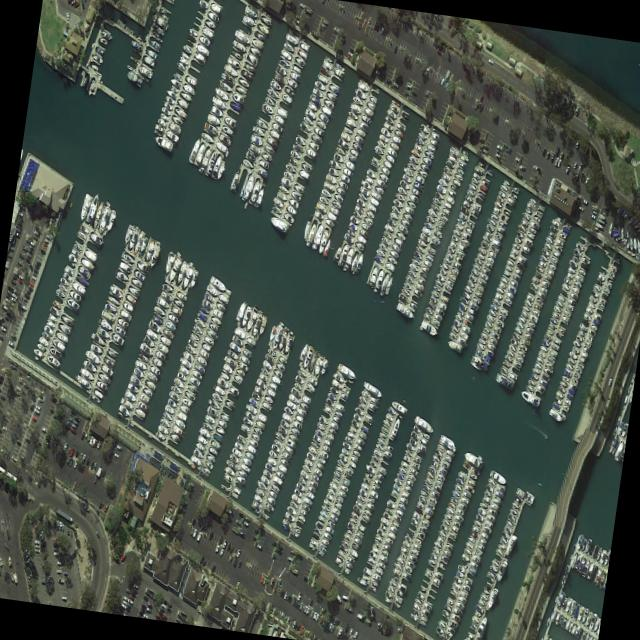large-vehicle: (56, 509, 73, 521), (4, 469, 17, 482), (0, 464, 6, 473), (59, 520, 62, 529), (61, 523, 64, 531), (67, 527, 69, 536), (56, 521, 58, 529)
ship: (240, 171, 255, 202), (85, 191, 99, 223), (518, 387, 539, 408), (414, 413, 434, 435), (96, 205, 111, 234), (463, 448, 483, 468), (167, 254, 181, 282), (78, 192, 91, 222), (91, 199, 104, 229), (268, 214, 288, 233), (153, 132, 172, 152), (494, 371, 514, 390), (311, 221, 324, 250), (148, 239, 161, 268), (271, 320, 284, 349), (396, 300, 414, 320), (316, 227, 329, 254), (188, 136, 201, 163), (438, 432, 456, 451), (204, 148, 217, 174), (199, 145, 212, 171), (245, 305, 258, 331), (209, 153, 222, 178), (388, 416, 401, 441), (420, 318, 437, 337), (305, 220, 317, 246), (248, 178, 260, 204), (125, 68, 142, 86), (372, 267, 384, 292), (132, 229, 144, 254), (193, 140, 205, 165), (251, 309, 262, 336), (390, 398, 407, 415), (301, 344, 313, 368), (378, 270, 389, 296), (181, 265, 193, 288), (337, 242, 348, 267), (233, 28, 250, 44), (469, 353, 484, 371), (105, 208, 116, 232), (343, 246, 354, 269), (353, 251, 364, 274), (127, 226, 138, 249), (229, 168, 240, 191), (235, 298, 246, 321), (122, 223, 133, 245), (253, 185, 264, 207), (613, 439, 624, 461), (240, 304, 251, 326), (70, 279, 85, 295), (45, 352, 60, 368), (144, 237, 154, 261), (176, 259, 186, 283), (85, 348, 100, 364), (90, 331, 105, 347), (164, 251, 174, 274), (137, 63, 152, 78), (76, 374, 91, 389), (231, 37, 246, 52), (223, 62, 238, 77), (88, 229, 102, 245), (548, 407, 562, 423), (446, 338, 462, 352), (368, 264, 378, 285), (349, 251, 359, 272), (154, 15, 168, 30), (164, 127, 178, 142), (80, 256, 94, 271), (65, 296, 79, 311), (51, 336, 65, 351), (215, 86, 229, 101), (211, 95, 226, 109), (257, 314, 267, 335), (277, 328, 287, 349), (147, 318, 161, 333), (138, 341, 152, 356), (80, 366, 94, 381), (188, 268, 198, 288), (195, 42, 209, 56), (57, 321, 71, 335), (284, 31, 298, 45), (251, 123, 265, 137), (249, 132, 263, 146), (244, 4, 258, 18), (200, 130, 214, 144), (206, 111, 220, 125), (203, 120, 217, 134), (173, 104, 186, 119), (83, 247, 96, 262), (109, 283, 122, 298), (100, 307, 113, 322), (215, 161, 225, 180), (298, 341, 308, 360), (167, 120, 181, 133), (77, 264, 90, 278), (68, 288, 81, 302), (255, 116, 268, 130), (266, 85, 279, 99), (241, 156, 254, 170), (256, 21, 269, 35), (214, 139, 227, 153), (217, 131, 230, 145), (227, 55, 240, 69), (220, 71, 234, 84), (118, 259, 131, 273), (210, 103, 223, 117), (118, 307, 131, 321), (99, 317, 112, 331), (96, 370, 110, 383), (99, 362, 112, 376), (384, 275, 393, 294), (588, 611, 597, 630), (283, 333, 292, 352), (298, 120, 311, 133), (206, 9, 219, 22), (200, 25, 213, 38), (75, 273, 88, 286), (59, 313, 72, 326), (260, 101, 273, 114), (134, 357, 147, 370), (155, 295, 168, 308), (96, 325, 109, 338), (83, 359, 96, 372), (223, 114, 235, 128), (218, 80, 232, 92), (129, 373, 141, 387), (322, 237, 331, 255), (332, 244, 341, 262), (302, 219, 310, 239), (337, 136, 349, 149), (354, 86, 366, 99), (272, 195, 284, 208), (209, 1, 221, 14), (182, 81, 194, 94), (273, 71, 285, 84), (248, 141, 260, 154), (242, 13, 254, 26), (230, 47, 242, 60), (259, 13, 271, 26), (233, 326, 245, 339), (231, 333, 243, 346), (228, 340, 240, 353), (216, 375, 228, 388), (195, 353, 207, 366), (208, 397, 220, 410), (206, 404, 218, 417), (145, 327, 157, 340), (111, 332, 123, 345), (205, 283, 217, 296), (139, 235, 148, 252), (593, 567, 602, 584), (580, 606, 589, 623), (569, 551, 578, 568), (581, 559, 590, 576), (585, 561, 594, 578), (575, 533, 584, 550), (315, 201, 327, 213), (351, 94, 363, 106), (277, 182, 289, 194), (304, 107, 316, 119), (313, 78, 325, 90), (282, 211, 294, 223), (176, 97, 188, 109), (179, 89, 191, 101), (55, 330, 67, 342), (48, 345, 60, 357), (269, 79, 281, 91), (282, 40, 294, 52), (270, 120, 282, 132), (248, 45, 260, 57), (231, 91, 243, 103), (122, 252, 134, 264), (598, 570, 606, 588), (223, 354, 235, 366), (180, 395, 192, 407), (190, 367, 202, 379), (204, 327, 216, 339), (198, 426, 210, 438), (268, 324, 276, 342), (153, 304, 165, 316), (142, 335, 154, 347), (121, 300, 133, 312), (116, 316, 128, 328), (107, 293, 119, 305), (90, 341, 102, 353), (113, 324, 125, 336), (102, 355, 114, 367), (132, 366, 144, 378), (349, 101, 360, 114), (402, 164, 413, 177), (360, 177, 371, 190), (198, 33, 209, 46), (169, 75, 180, 88), (280, 91, 291, 104), (246, 52, 257, 65), (224, 464, 235, 477), (217, 291, 228, 304), (160, 289, 171, 302), (87, 78, 95, 95), (564, 596, 572, 613), (598, 547, 606, 564), (572, 601, 580, 618), (576, 604, 584, 621), (584, 609, 592, 626), (574, 552, 582, 569), (325, 172, 336, 184), (330, 158, 341, 170), (280, 175, 291, 187), (284, 162, 296, 173), (294, 134, 305, 146), (306, 100, 317, 112), (316, 72, 327, 84), (285, 203, 296, 215), (392, 196, 403, 208), (396, 184, 407, 196), (358, 184, 369, 196), (379, 125, 390, 137), (149, 38, 160, 50), (143, 54, 154, 66), (170, 113, 182, 124), (185, 74, 196, 86), (327, 82, 339, 93), (264, 95, 275, 107), (275, 64, 287, 75), (280, 48, 291, 60), (293, 55, 305, 66), (288, 69, 299, 81), (304, 146, 315, 158), (325, 89, 336, 101), (320, 104, 331, 116), (310, 132, 321, 144), (308, 139, 319, 151), (300, 160, 311, 172), (297, 167, 308, 179), (275, 106, 286, 118), (240, 68, 251, 80), (237, 76, 249, 87), (265, 135, 276, 147), (255, 166, 267, 177), (435, 182, 446, 194), (255, 30, 266, 42), (228, 452, 239, 464), (350, 139, 361, 151), (357, 190, 368, 202), (174, 417, 185, 429), (175, 409, 186, 421), (178, 402, 189, 414), (183, 389, 195, 400), (193, 361, 204, 373), (211, 390, 222, 402), (192, 447, 203, 459), (156, 423, 168, 434), (124, 292, 135, 304), (127, 285, 139, 296), (129, 276, 141, 287), (135, 259, 146, 271), (419, 230, 429, 243), (231, 445, 241, 458), (620, 421, 628, 437), (556, 590, 564, 606), (602, 550, 610, 566), (592, 615, 600, 631), (578, 556, 586, 572), (583, 537, 591, 553), (323, 180, 334, 191), (347, 109, 358, 120), (388, 140, 399, 151), (357, 80, 368, 91), (282, 169, 293, 180), (289, 148, 300, 159), (302, 114, 313, 125), (311, 86, 322, 97), (319, 65, 330, 76), (386, 254, 397, 265), (397, 223, 408, 234), (92, 52, 103, 63), (193, 50, 204, 61), (322, 97, 333, 108), (268, 128, 279, 139), (251, 37, 262, 48), (243, 61, 254, 72), (221, 124, 232, 135), (437, 176, 448, 187), (397, 291, 408, 302), (130, 38, 141, 49), (246, 403, 257, 414), (226, 348, 237, 359), (222, 362, 233, 373), (214, 384, 225, 395), (214, 300, 225, 311), (171, 424, 182, 435), (210, 314, 221, 325), (239, 461, 250, 472), (204, 413, 215, 424), (159, 416, 170, 427), (133, 269, 144, 280), (151, 313, 162, 324), (95, 379, 106, 390), (138, 351, 149, 362), (313, 208, 323, 220), (333, 151, 343, 163), (335, 144, 345, 156), (340, 130, 350, 142), (345, 116, 355, 128), (386, 145, 396, 157), (291, 142, 303, 152), (342, 165, 352, 177), (357, 119, 367, 131), (388, 101, 398, 113), (386, 107, 396, 119), (343, 231, 353, 243), (373, 143, 383, 155), (384, 113, 394, 125), (395, 229, 405, 241), (38, 334, 48, 346), (273, 113, 283, 125), (313, 125, 323, 137), (290, 188, 300, 200), (258, 157, 268, 169), (416, 236, 426, 248), (421, 224, 431, 236), (427, 206, 437, 218), (255, 377, 265, 389), (264, 351, 274, 363), (568, 600, 576, 615), (591, 543, 599, 558), (116, 270, 128, 280), (169, 430, 179, 442), (228, 384, 238, 396), (209, 438, 219, 450), (197, 433, 207, 445), (190, 453, 200, 465), (106, 346, 116, 358), (103, 303, 116, 312), (595, 545, 602, 561), (318, 194, 328, 205), (320, 187, 331, 197), (343, 124, 353, 135), (384, 152, 394, 163), (375, 177, 385, 188), (356, 233, 366, 244), (354, 239, 364, 250), (326, 210, 336, 221), (328, 204, 338, 215), (288, 156, 299, 166), (309, 93, 320, 103), (276, 190, 287, 200), (331, 198, 341, 209), (337, 178, 347, 189), (339, 172, 349, 183), (344, 159, 354, 170), (355, 126, 365, 137), (363, 105, 373, 116), (395, 121, 405, 132), (380, 235, 390, 246), (386, 216, 396, 227), (390, 203, 400, 214), (399, 178, 409, 189), (401, 172, 411, 183), (408, 153, 418, 164), (410, 147, 420, 158), (373, 253, 383, 264), (384, 260, 394, 271), (349, 214, 359, 225), (355, 196, 365, 207), (366, 167, 376, 178), (378, 132, 388, 143), (399, 216, 409, 227), (406, 198, 416, 209), (412, 179, 422, 190), (423, 148, 433, 159), (333, 67, 344, 77), (146, 48, 156, 59), (99, 29, 110, 39), (32, 346, 42, 357), (172, 71, 182, 82), (165, 87, 175, 98), (160, 105, 170, 116), (43, 323, 53, 334), (63, 264, 73, 275), (49, 305, 59, 316), (55, 287, 65, 298), (59, 275, 69, 286), (67, 252, 77, 263), (278, 57, 289, 67), (297, 48, 307, 59), (283, 85, 293, 96), (317, 111, 327, 122), (315, 118, 325, 129), (245, 149, 255, 160), (293, 182, 303, 193), (235, 84, 246, 94), (229, 100, 240, 110), (425, 213, 435, 224), (408, 261, 418, 272), (402, 280, 412, 291), (404, 273, 414, 284), (251, 390, 261, 401), (253, 384, 263, 395), (262, 359, 272, 370), (244, 409, 254, 420), (240, 421, 250, 432), (233, 440, 243, 451), (290, 386, 300, 397), (245, 335, 255, 346), (237, 360, 247, 371), (232, 372, 242, 383), (187, 382, 197, 393), (188, 374, 198, 385), (198, 347, 208, 358), (203, 334, 213, 345), (207, 320, 217, 331), (212, 307, 222, 318), (256, 411, 266, 422), (254, 418, 264, 429), (252, 424, 262, 435), (241, 455, 251, 466), (235, 473, 245, 484), (194, 440, 204, 451), (92, 387, 102, 398), (162, 410, 172, 421), (204, 291, 214, 302), (408, 191, 417, 203), (260, 151, 272, 160), (617, 419, 624, 434), (560, 595, 567, 610), (80, 74, 87, 89), (328, 166, 338, 176), (377, 171, 387, 181), (371, 190, 381, 200), (362, 215, 372, 225), (288, 197, 298, 207), (322, 59, 332, 69), (333, 192, 343, 202), (360, 113, 370, 123), (377, 241, 387, 251), (383, 222, 393, 232), (388, 210, 398, 220), (375, 247, 385, 257), (403, 204, 413, 214), (414, 173, 424, 183), (421, 155, 431, 165), (178, 55, 188, 65), (45, 318, 55, 328), (51, 299, 61, 309), (57, 282, 67, 292), (76, 229, 86, 239), (562, 366, 572, 376), (423, 219, 433, 229), (431, 195, 441, 205), (442, 165, 452, 175), (448, 146, 458, 156), (410, 256, 420, 266), (469, 300, 479, 310), (392, 560, 402, 570), (433, 570, 443, 580), (453, 512, 463, 522), (227, 459, 237, 469), (296, 368, 306, 378), (429, 288, 439, 298), (239, 354, 249, 364), (263, 393, 273, 403), (261, 400, 271, 410), (202, 420, 212, 430), (212, 432, 222, 442), (155, 430, 165, 440), (393, 127, 402, 138), (391, 133, 400, 144), (382, 158, 391, 169), (369, 195, 378, 206), (324, 216, 333, 227), (271, 205, 282, 214), (391, 241, 400, 252), (376, 138, 385, 149), (430, 130, 439, 141), (204, 19, 215, 28), (182, 43, 191, 54), (263, 144, 274, 153), (467, 272, 476, 283), (456, 334, 465, 345), (424, 505, 433, 516), (358, 486, 367, 497), (423, 600, 432, 611), (249, 396, 258, 407), (260, 365, 269, 376), (293, 380, 302, 391), (237, 467, 246, 478), (433, 311, 442, 322), (437, 299, 446, 310), (275, 360, 284, 371), (267, 379, 276, 390), (248, 436, 257, 447), (246, 442, 255, 453), (161, 282, 172, 291), (374, 184, 383, 194), (365, 208, 374, 218), (360, 221, 369, 231), (358, 227, 367, 237), (335, 185, 344, 195), (353, 133, 362, 143), (365, 99, 374, 109), (417, 130, 427, 139), (389, 248, 398, 258), (382, 229, 391, 239), (396, 192, 405, 202), (406, 161, 416, 170), (413, 142, 422, 152), (445, 194, 454, 204), (433, 228, 442, 238), (419, 123, 428, 133), (348, 221, 357, 231), (352, 209, 361, 219), (364, 174, 373, 184), (383, 120, 392, 130), (402, 211, 411, 221), (417, 167, 426, 177), (419, 161, 428, 171), (426, 142, 435, 152), (165, 94, 174, 104), (163, 100, 172, 110), (40, 330, 50, 339), (48, 312, 57, 322), (79, 223, 88, 233), (176, 60, 185, 70), (299, 41, 308, 51), (287, 78, 296, 88), (198, 0, 208, 9), (188, 27, 197, 37), (560, 281, 569, 291), (568, 258, 577, 268), (574, 272, 583, 282), (467, 181, 476, 191), (415, 244, 424, 254), (441, 171, 450, 181), (413, 250, 422, 260), (407, 268, 416, 278), (408, 299, 417, 309), (400, 286, 409, 296), (516, 222, 525, 232), (485, 313, 494, 323), (487, 307, 496, 317), (477, 277, 486, 287), (386, 498, 395, 508), (405, 441, 414, 451), (440, 459, 449, 469), (380, 515, 389, 525), (349, 547, 358, 557), (451, 612, 460, 622), (455, 600, 464, 610), (471, 553, 480, 563), (397, 582, 406, 592), (445, 505, 454, 515), (461, 489, 471, 498), (470, 523, 479, 533), (472, 517, 481, 527), (474, 511, 483, 521), (267, 347, 276, 357), (243, 415, 252, 425), (236, 434, 245, 444), (456, 563, 465, 573), (235, 366, 244, 376), (220, 370, 229, 380), (201, 341, 210, 351), (224, 398, 233, 408), (277, 354, 286, 364), (272, 367, 281, 377), (250, 431, 259, 441), (244, 449, 253, 459), (219, 411, 228, 421), (217, 418, 226, 428), (204, 458, 212, 469), (580, 536, 586, 550), (367, 203, 376, 212), (347, 153, 356, 162), (451, 177, 460, 186), (457, 159, 466, 168), (415, 136, 424, 145), (346, 227, 355, 236), (354, 204, 363, 213), (370, 157, 379, 166), (159, 111, 168, 120), (572, 247, 581, 256), (574, 241, 583, 250), (554, 298, 563, 307), (540, 372, 549, 381), (544, 360, 553, 369), (540, 337, 549, 346), (499, 365, 508, 374), (512, 359, 521, 368), (529, 313, 538, 322), (536, 383, 545, 392), (564, 361, 573, 370), (568, 350, 577, 359), (439, 294, 448, 303), (491, 237, 500, 246), (493, 231, 502, 240), (497, 189, 506, 198), (430, 202, 439, 211), (434, 190, 443, 199), (445, 159, 454, 168), (447, 153, 456, 162), (412, 287, 421, 296), (414, 281, 423, 290), (473, 164, 482, 173), (507, 284, 516, 293), (525, 200, 534, 209), (484, 348, 493, 357), (475, 341, 484, 350), (459, 295, 468, 304), (473, 256, 482, 265), (523, 237, 532, 246), (529, 219, 538, 228), (459, 330, 468, 339), (461, 324, 470, 333), (406, 472, 415, 481), (393, 476, 402, 485), (366, 464, 375, 473), (374, 441, 383, 450), (376, 436, 385, 445), (386, 530, 395, 539), (376, 559, 385, 568), (362, 566, 371, 575), (371, 572, 380, 581), (494, 489, 503, 498), (496, 483, 505, 492), (457, 470, 466, 479), (415, 590, 424, 599), (490, 501, 499, 510), (467, 565, 476, 574), (427, 464, 436, 473), (425, 470, 434, 479), (627, 215, 636, 224), (453, 482, 462, 491), (466, 534, 475, 543), (486, 569, 495, 578), (258, 372, 267, 381), (433, 277, 442, 286), (270, 374, 279, 383), (208, 445, 217, 454), (205, 453, 214, 462), (223, 472, 232, 481), (381, 165, 389, 175), (410, 185, 418, 195), (36, 341, 44, 351), (63, 271, 71, 281), (541, 246, 549, 256), (544, 234, 552, 244), (531, 307, 539, 317), (523, 297, 531, 307), (515, 319, 523, 329), (517, 314, 525, 324), (458, 210, 466, 220), (456, 248, 464, 258), (479, 239, 487, 249), (464, 284, 472, 294), (466, 278, 474, 288), (458, 300, 466, 310), (399, 494, 407, 504), (410, 430, 418, 440), (412, 510, 420, 520), (382, 417, 390, 427), (441, 516, 449, 526), (156, 118, 166, 126), (242, 347, 250, 357), (554, 611, 560, 624), (349, 147, 357, 156), (431, 236, 440, 244), (394, 236, 402, 245), (160, 12, 168, 21), (155, 26, 163, 35), (98, 36, 107, 44), (154, 123, 163, 131), (170, 84, 178, 93), (73, 242, 82, 250), (180, 50, 189, 58), (422, 258, 430, 267), (560, 313, 568, 322), (563, 307, 571, 316), (565, 301, 573, 310), (573, 278, 581, 287), (563, 276, 571, 285), (417, 275, 425, 284), (538, 377, 546, 386), (542, 366, 550, 375), (537, 349, 545, 358), (548, 316, 557, 324), (551, 310, 559, 319), (552, 304, 560, 313), (535, 296, 543, 305), (530, 275, 538, 284), (537, 290, 545, 299), (539, 284, 547, 293), (541, 278, 549, 287), (535, 264, 543, 273), (547, 261, 555, 270), (549, 255, 557, 264), (543, 240, 551, 249), (554, 243, 562, 252), (503, 353, 511, 362), (505, 348, 513, 357), (508, 343, 516, 352), (517, 348, 525, 357), (509, 337, 517, 346), (520, 309, 528, 318), (527, 377, 535, 386), (590, 289, 598, 298), (578, 322, 586, 331), (525, 383, 533, 392), (566, 356, 575, 364), (580, 255, 589, 263), (557, 384, 565, 393), (553, 395, 561, 404), (555, 390, 563, 399), (450, 266, 458, 275), (452, 227, 460, 236), (454, 221, 462, 230), (455, 215, 463, 224), (462, 199, 470, 208), (464, 193, 472, 202), (466, 187, 474, 196), (470, 175, 478, 184), (431, 317, 439, 326), (435, 307, 444, 315), (438, 266, 446, 275), (436, 272, 444, 281), (485, 223, 494, 231), (488, 217, 496, 226), (506, 195, 514, 204), (422, 311, 430, 320), (424, 306, 432, 315), (460, 237, 468, 246), (461, 231, 470, 239), (472, 202, 480, 211), (481, 233, 489, 242), (515, 229, 523, 238), (499, 307, 507, 316), (503, 295, 511, 304), (474, 347, 482, 356), (480, 330, 488, 339), (484, 319, 492, 328), (491, 297, 500, 305), (499, 274, 507, 283), (505, 289, 513, 298), (462, 290, 470, 299), (472, 262, 480, 271), (481, 266, 489, 275), (477, 245, 485, 254), (450, 324, 458, 333), (452, 318, 460, 327), (454, 312, 462, 321), (417, 443, 425, 452), (411, 460, 419, 469), (409, 466, 417, 475), (396, 470, 404, 479), (392, 512, 400, 521), (382, 510, 390, 519), (404, 447, 412, 456), (419, 524, 427, 533), (420, 518, 428, 527), (436, 472, 445, 480), (438, 465, 446, 474), (445, 448, 453, 457), (412, 424, 420, 433), (341, 538, 349, 547), (361, 512, 369, 521), (354, 498, 362, 507), (356, 493, 364, 502), (360, 481, 369, 489), (378, 430, 386, 439), (346, 554, 354, 563), (376, 527, 384, 536), (370, 544, 378, 553), (382, 541, 390, 550), (378, 553, 386, 562), (358, 577, 366, 586), (374, 566, 382, 575), (408, 553, 416, 562), (406, 559, 414, 568), (421, 607, 429, 616), (455, 476, 463, 485), (451, 488, 459, 497), (431, 545, 439, 554), (429, 551, 437, 560), (487, 513, 495, 522), (453, 606, 461, 615), (451, 580, 459, 589), (437, 619, 445, 628), (446, 624, 454, 633), (457, 594, 465, 603), (459, 588, 467, 597), (480, 530, 488, 539), (403, 533, 411, 542), (401, 539, 410, 547), (396, 555, 404, 564), (392, 567, 400, 576), (388, 578, 396, 587), (384, 589, 392, 598), (418, 493, 426, 502), (422, 482, 430, 491), (458, 501, 466, 510), (442, 547, 450, 556), (448, 530, 456, 539), (460, 495, 468, 504), (464, 483, 472, 492), (385, 412, 393, 421), (433, 539, 441, 548), (439, 522, 447, 531), (443, 511, 451, 520), (466, 477, 474, 486), (475, 541, 483, 550), (477, 536, 486, 544), (96, 46, 104, 55), (151, 28, 159, 37), (418, 618, 426, 627), (409, 612, 417, 621), (576, 360, 584, 369), (386, 406, 395, 414), (574, 624, 580, 636), (564, 618, 570, 630), (369, 489, 377, 498), (377, 466, 385, 475), (373, 477, 381, 486), (365, 501, 373, 510), (232, 485, 240, 494), (453, 574, 461, 583), (461, 552, 469, 561), (514, 324, 521, 334), (496, 193, 503, 203), (427, 300, 434, 310), (420, 264, 428, 272), (440, 213, 448, 221), (441, 206, 449, 214), (443, 200, 451, 208), (454, 172, 462, 180), (455, 166, 463, 174), (429, 137, 437, 145), (90, 62, 98, 70), (71, 248, 79, 256), (292, 64, 300, 72), (571, 285, 579, 293), (597, 212, 605, 220), (531, 366, 539, 374), (535, 355, 543, 363), (539, 344, 547, 352), (543, 332, 551, 340), (529, 281, 537, 289), (546, 267, 554, 275), (539, 253, 547, 261), (525, 293, 533, 301), (519, 342, 527, 350), (515, 354, 523, 362), (521, 337, 529, 345), (525, 325, 533, 333), (521, 303, 529, 311), (592, 283, 600, 291), (588, 294, 596, 302), (593, 312, 601, 320), (636, 237, 640, 253), (568, 382, 576, 390), (561, 373, 569, 381), (571, 345, 579, 353), (572, 339, 580, 347), (577, 267, 585, 275), (555, 237, 563, 245), (549, 224, 557, 232), (442, 256, 450, 264), (472, 171, 480, 179), (440, 261, 448, 269), (493, 199, 501, 207), (499, 183, 507, 191), (448, 272, 456, 280), (464, 225, 472, 233), (470, 208, 478, 216), (480, 178, 488, 186), (551, 218, 559, 226), (511, 241, 519, 249), (519, 218, 527, 226), (495, 319, 503, 327), (508, 252, 516, 260), (505, 258, 513, 266), (477, 336, 485, 344), (489, 302, 497, 310), (495, 286, 503, 294), (470, 268, 478, 276), (476, 251, 484, 259), (484, 260, 492, 268), (485, 255, 493, 263), (467, 306, 475, 314), (517, 255, 525, 263), (528, 225, 536, 233), (448, 330, 456, 338), (402, 454, 410, 462), (400, 459, 408, 467), (398, 465, 406, 473), (403, 483, 411, 491), (397, 502, 405, 510), (455, 569, 463, 577), (412, 541, 420, 549), (416, 530, 424, 538), (428, 495, 436, 503), (443, 454, 451, 462), (421, 431, 429, 439), (353, 536, 361, 544), (363, 507, 371, 515), (362, 476, 370, 484), (368, 459, 376, 467), (373, 448, 381, 456), (374, 533, 382, 541), (384, 536, 392, 544), (380, 547, 388, 555), (367, 556, 375, 564), (410, 547, 418, 555), (492, 496, 500, 504), (488, 507, 496, 515), (443, 603, 451, 611), (435, 625, 443, 633), (469, 559, 477, 567), (414, 505, 422, 513), (390, 573, 398, 581), (402, 571, 410, 579), (419, 488, 427, 496), (444, 542, 452, 550), (450, 524, 458, 532), (434, 448, 442, 456), (392, 600, 400, 608), (383, 449, 391, 457), (375, 472, 383, 480), (202, 465, 210, 473), (369, 94, 376, 103), (595, 220, 602, 229), (557, 293, 564, 302), (549, 348, 556, 357), (509, 371, 516, 380), (501, 360, 510, 367), (552, 248, 559, 257), (512, 331, 519, 340), (597, 272, 604, 281), (583, 311, 590, 320), (633, 220, 640, 229), (453, 260, 460, 269), (458, 242, 465, 251), (466, 219, 473, 228), (510, 278, 517, 287), (488, 249, 495, 258), (512, 272, 519, 281), (480, 271, 487, 280), (413, 454, 420, 463), (392, 482, 399, 491), (431, 489, 438, 498), (369, 550, 376, 559), (436, 534, 443, 543), (414, 596, 421, 605), (432, 576, 439, 585), (456, 506, 463, 515), (432, 453, 439, 462), (463, 460, 470, 469), (607, 221, 612, 233), (568, 620, 573, 632), (545, 614, 550, 626), (425, 253, 432, 261), (427, 247, 435, 254), (437, 218, 444, 226), (448, 189, 455, 197), (324, 54, 331, 62), (419, 270, 426, 278), (567, 266, 575, 273), (571, 254, 578, 262), (566, 297, 574, 304), (569, 291, 576, 299), (597, 216, 604, 224), (534, 361, 541, 369), (547, 355, 554, 363), (551, 342, 558, 350), (545, 328, 553, 335), (533, 301, 540, 309), (543, 273, 551, 280), (538, 259, 545, 267), (523, 331, 530, 339), (529, 372, 537, 379), (602, 286, 609, 294), (598, 296, 605, 304), (588, 328, 595, 336), (584, 338, 591, 346), (632, 236, 636, 250), (573, 371, 580, 379), (551, 401, 558, 409), (558, 231, 566, 238), (445, 251, 452, 259), (447, 245, 454, 253), (449, 239, 456, 247), (446, 278, 453, 286), (484, 229, 491, 237), (496, 225, 503, 233), (432, 284, 440, 291), (429, 295, 436, 303), (454, 255, 461, 263), (476, 190, 483, 198), (510, 247, 517, 255), (486, 342, 493, 350), (489, 336, 496, 344), (491, 331, 498, 339), (493, 325, 500, 333), (497, 313, 504, 321), (504, 263, 511, 271), (482, 325, 489, 333), (533, 270, 540, 278), (494, 291, 501, 299), (498, 280, 505, 288), (471, 296, 479, 303), (474, 289, 481, 297), (476, 283, 483, 291), (532, 214, 540, 221), (516, 261, 523, 269), (521, 244, 529, 251), (405, 478, 412, 486), (391, 488, 398, 496), (395, 507, 402, 515), (433, 483, 440, 491), (389, 524, 396, 532), (379, 522, 386, 530), (350, 542, 357, 550), (355, 530, 362, 538), (371, 453, 378, 461), (345, 561, 352, 569), (368, 583, 375, 591), (438, 529, 445, 537), (424, 568, 431, 576), (412, 602, 419, 610), (446, 597, 453, 605), (442, 608, 449, 616), (484, 518, 491, 526), (404, 564, 411, 572), (410, 516, 417, 524), (399, 545, 407, 552), (440, 553, 447, 561), (452, 519, 459, 527), (471, 467, 479, 474), (437, 442, 444, 450), (381, 424, 388, 432), (582, 344, 589, 352), (449, 620, 456, 628), (361, 574, 369, 581), (445, 631, 452, 639), (484, 582, 491, 590), (591, 317, 598, 325), (371, 483, 378, 491), (224, 287, 231, 295), (215, 426, 223, 433), (626, 382, 631, 393), (630, 372, 635, 383), (551, 610, 556, 621), (581, 629, 586, 640), (571, 623, 576, 634), (561, 616, 566, 627), (563, 563, 568, 574), (560, 573, 565, 584), (612, 425, 617, 435), (558, 614, 563, 624), (401, 111, 408, 118), (553, 337, 560, 344), (557, 326, 564, 333), (547, 322, 554, 329), (604, 281, 611, 288), (597, 302, 604, 309), (587, 301, 594, 308), (585, 306, 592, 313), (579, 350, 586, 357), (575, 334, 582, 341), (565, 392, 572, 399), (562, 403, 569, 410), (451, 234, 458, 241), (490, 212, 497, 219), (502, 208, 509, 215), (502, 178, 509, 185), (479, 184, 486, 191), (514, 267, 521, 274), (526, 231, 533, 238), (465, 313, 472, 320), (414, 536, 421, 543), (391, 519, 398, 526), (357, 524, 364, 531), (373, 540, 380, 547), (450, 495, 457, 502), (448, 501, 455, 508), (462, 583, 469, 590), (416, 500, 423, 507), (387, 585, 394, 592), (394, 596, 401, 603), (425, 477, 432, 484), (510, 192, 517, 199), (385, 444, 392, 451), (444, 283, 451, 290), (335, 61, 341, 69), (527, 321, 535, 327), (559, 380, 567, 386), (564, 397, 570, 405), (490, 243, 496, 251), (514, 235, 520, 243), (523, 212, 529, 220), (562, 225, 568, 233), (420, 436, 426, 444), (468, 472, 476, 478), (427, 558, 435, 564), (620, 208, 626, 216), (554, 184, 560, 192), (543, 632, 549, 640), (616, 414, 620, 425), (9, 570, 13, 581), (461, 148, 467, 155), (566, 271, 572, 278), (590, 323, 596, 330), (586, 333, 592, 340), (608, 270, 614, 277), (571, 377, 577, 384), (575, 366, 581, 373), (579, 355, 585, 362), (577, 329, 583, 336), (525, 207, 531, 214), (529, 197, 536, 203), (457, 308, 463, 315), (536, 209, 542, 216), (435, 479, 442, 485), (343, 567, 349, 574), (370, 580, 377, 586), (420, 614, 426, 621), (399, 551, 405, 558), (384, 596, 390, 603), (601, 292, 607, 299), (159, 7, 166, 13), (515, 497, 521, 504), (623, 393, 627, 403), (571, 542, 575, 552), (584, 632, 589, 640), (553, 594, 558, 602), (629, 236, 632, 249), (620, 226, 623, 238), (567, 387, 573, 393), (564, 221, 570, 227), (283, 325, 289, 331), (278, 320, 284, 326), (84, 347, 88, 356), (105, 200, 110, 207), (622, 237, 627, 244), (464, 579, 471, 584), (367, 497, 374, 502), (0, 555, 3, 566), (617, 225, 620, 236), (80, 68, 84, 76), (502, 270, 508, 275), (176, 250, 181, 256), (198, 168, 203, 174), (468, 633, 473, 639), (588, 634, 593, 640), (102, 228, 106, 235), (412, 609, 416, 616), (619, 407, 623, 414), (537, 481, 542, 486), (634, 254, 639, 259), (626, 249, 631, 254), (560, 415, 565, 420), (611, 266, 616, 271), (636, 226, 640, 232), (178, 355, 182, 361), (288, 329, 292, 335), (247, 29, 251, 35), (224, 150, 228, 156), (539, 634, 543, 640), (244, 201, 247, 208), (76, 373, 79, 380), (620, 237, 625, 241), (630, 251, 635, 255), (44, 238, 48, 243), (397, 413, 401, 418), (418, 326, 423, 330), (466, 242, 470, 247), (486, 216, 490, 221), (34, 355, 38, 360), (181, 349, 184, 355), (82, 358, 85, 364), (569, 553, 572, 559), (615, 236, 619, 240), (439, 563, 443, 567), (592, 636, 596, 640), (548, 636, 552, 640), (621, 403, 624, 408), (332, 372, 335, 377), (471, 488, 474, 493), (626, 231, 628, 237), (96, 398, 99, 402), (91, 394, 94, 398), (342, 267, 346, 270), (503, 219, 506, 222), (504, 216, 507, 219)
